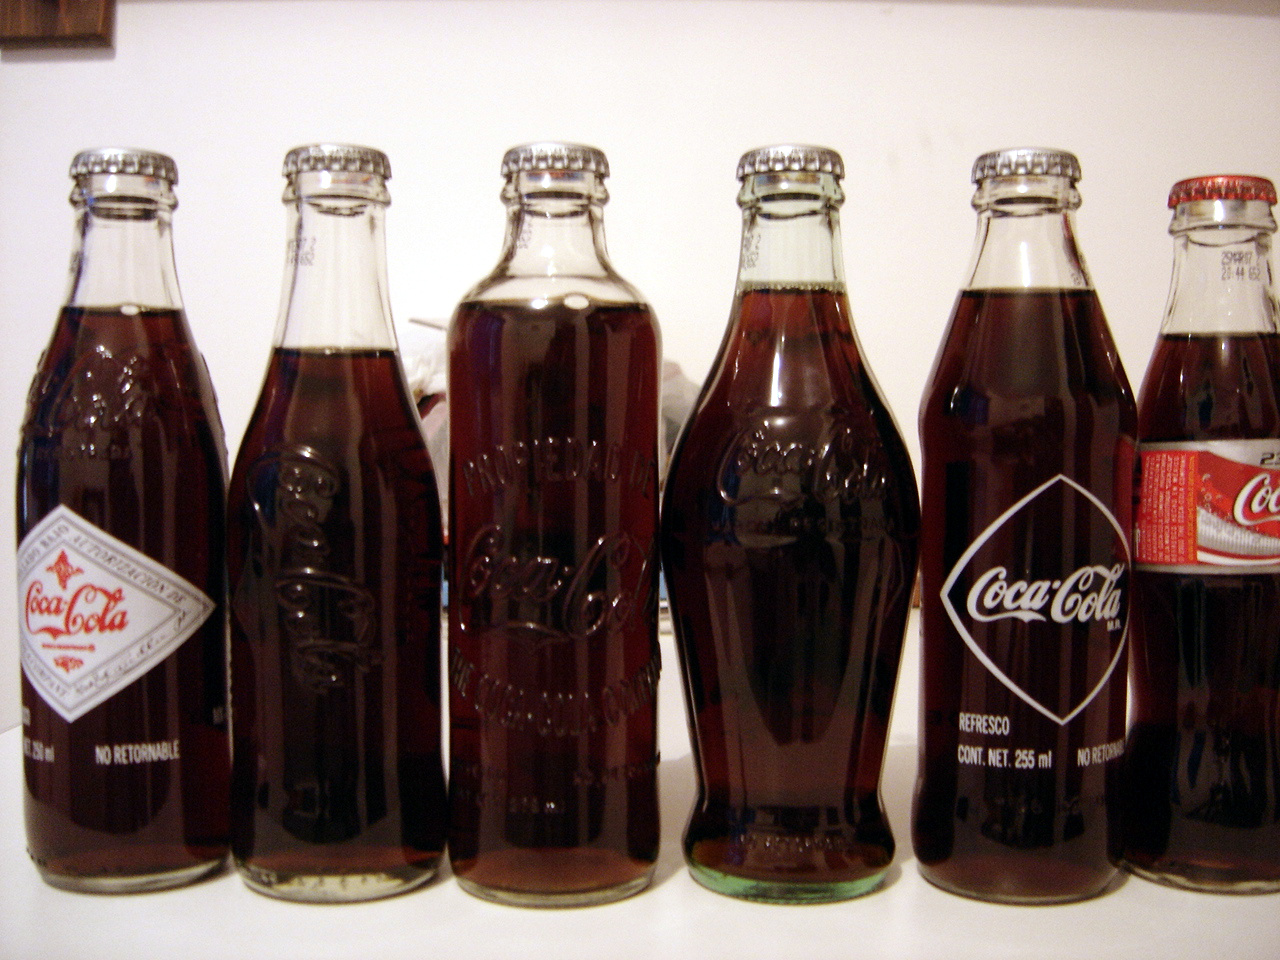glass_bottle: (656, 144, 921, 906), (222, 128, 452, 903), (911, 127, 1134, 910), (10, 138, 237, 899), (452, 132, 666, 914), (1132, 130, 1280, 905)
